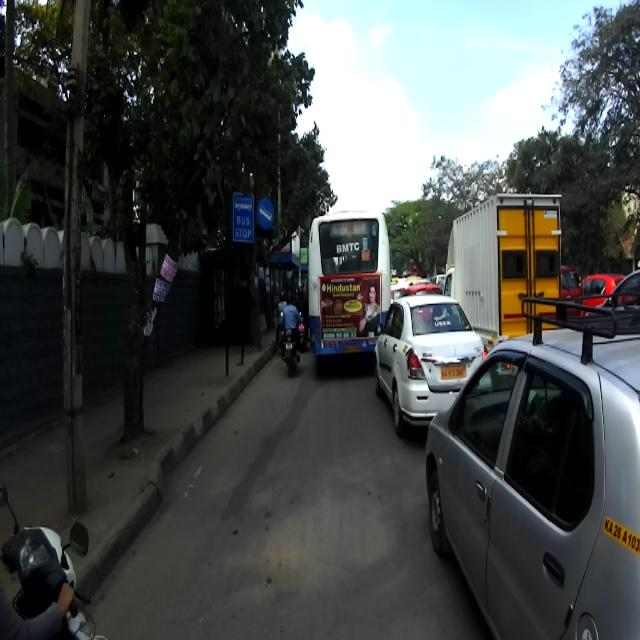bus ahead at: (314, 214, 393, 385)
car ahead at: (421, 329, 640, 640), (378, 285, 479, 420)
tree ahead at: (95, 107, 192, 434)
